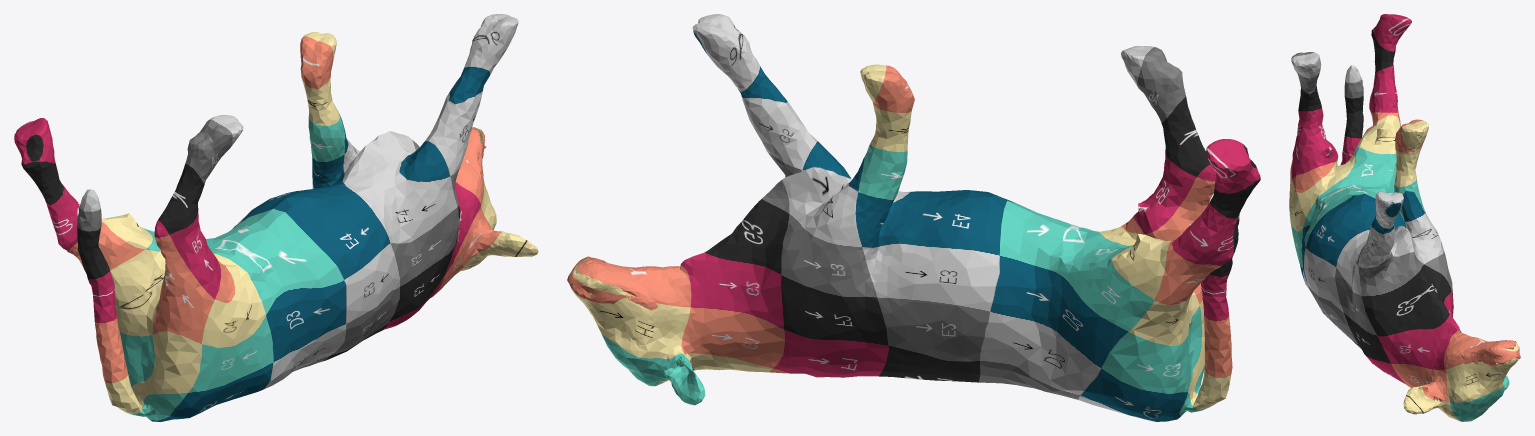
File: dog_08-cow_06.obj
The picture shows the model from 3 angles, left to right: view 1: azimuth 30°, elevation 25°; view 2: azimuth 150°, elevation 25°; view 3: azimuth 270°, elevation 25°; orthographic projection. The views are drawn at different scales.
Parts seen in each view (by area): view 1: dog_08-cow_06_export; view 2: dog_08-cow_06_export; view 3: dog_08-cow_06_export.
Boxes of the visible parts, <box> form: dog_08-cow_06_export: <box>14,14,538,421</box>; dog_08-cow_06_export: <box>567,14,1260,421</box>; dog_08-cow_06_export: <box>1289,14,1520,421</box>.
Size of the model in its own units: 0.9906 by 0.5382 by 0.4724.
